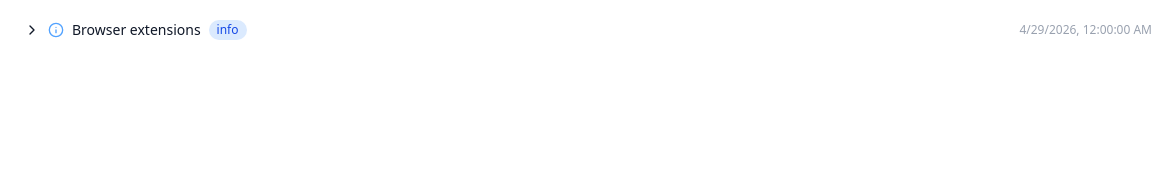
Test: HealthChecksTab › browser_extensions groups by browser with counts
Expected: the text "Browser extensions" is shown, 72,20 -> 201,40
Click the button "Browser extensions info 4/29/2026, 12:00:00 AM" at {"x": 136, "y": 30}, box 12,12 -> 1164,48
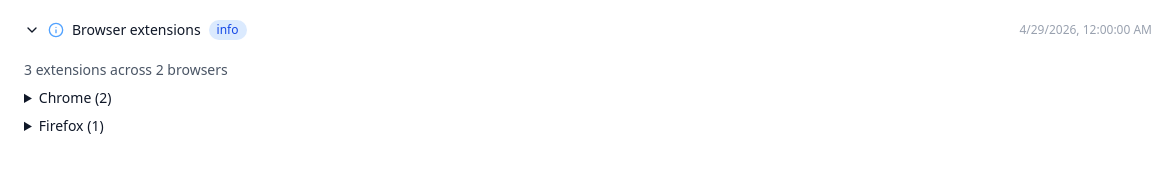
Result: the heading "Chrome (2)" is shown at 39,88 -> 111,107
Result: the heading "Firefox (1)" is shown at 39,116 -> 104,135
